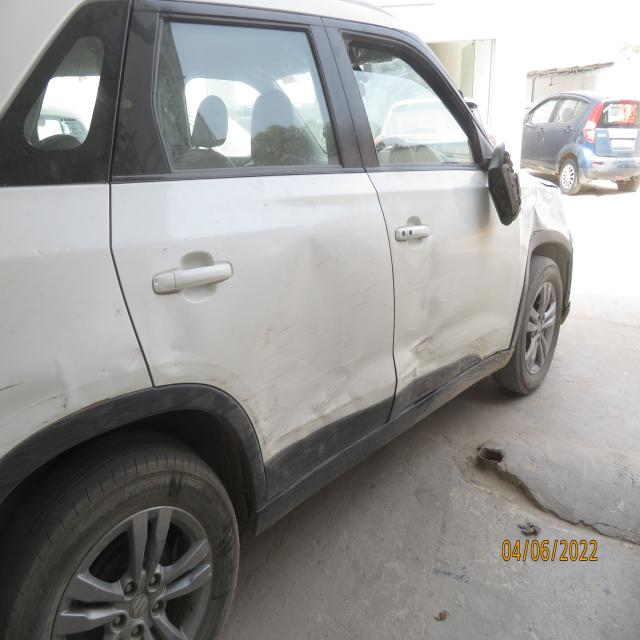damage: (249, 224, 379, 442), (398, 223, 489, 395), (0, 333, 79, 445), (143, 298, 206, 384), (525, 183, 568, 244), (489, 140, 521, 213)
